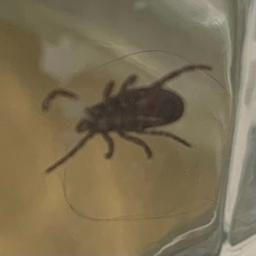Dermacentor variabilis: (39, 62, 215, 175)
